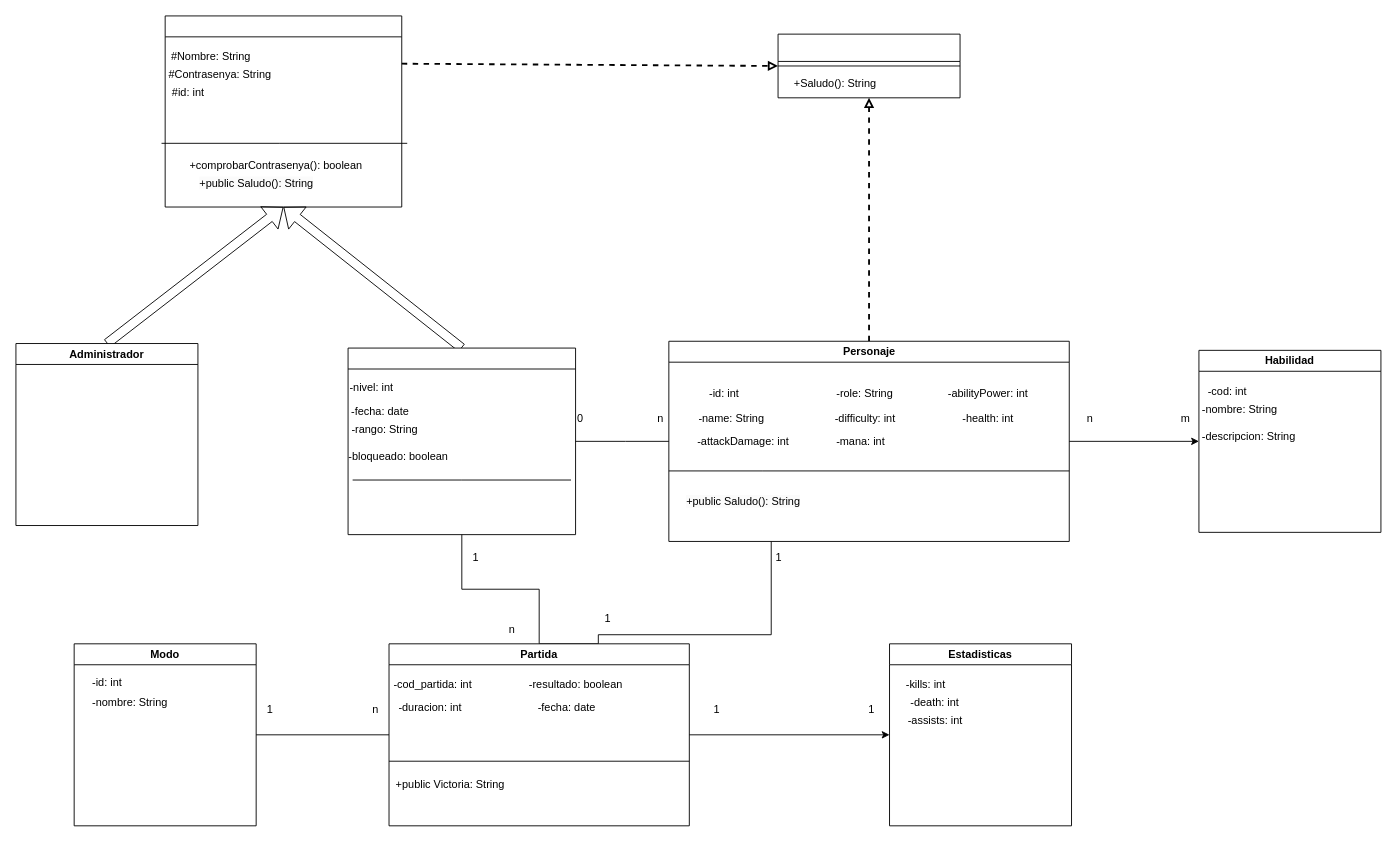
Some shapes in this 1397 by 842 pixel diagram are drawn without their labels. The shapes that lost their labels are listed below. From the top down, each one's box as (x1, y1, x2, y2) in pixels, then its label:
(777, 33, 960, 98): Saludar
(164, 15, 402, 207): Usuario
(347, 347, 576, 535): Jugador
